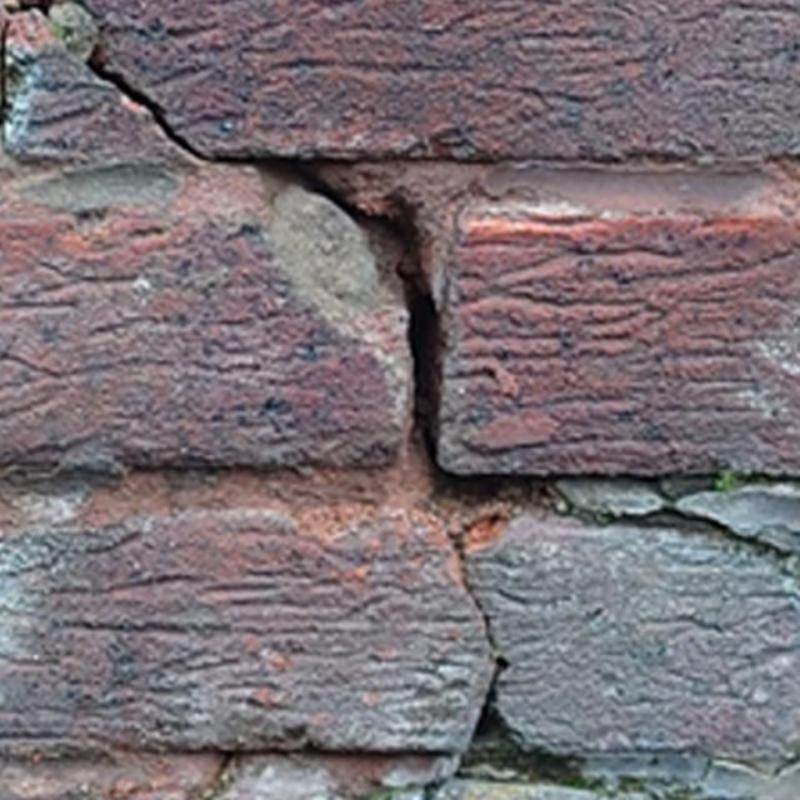pothole: (89, 48, 800, 596), (456, 581, 588, 787)
